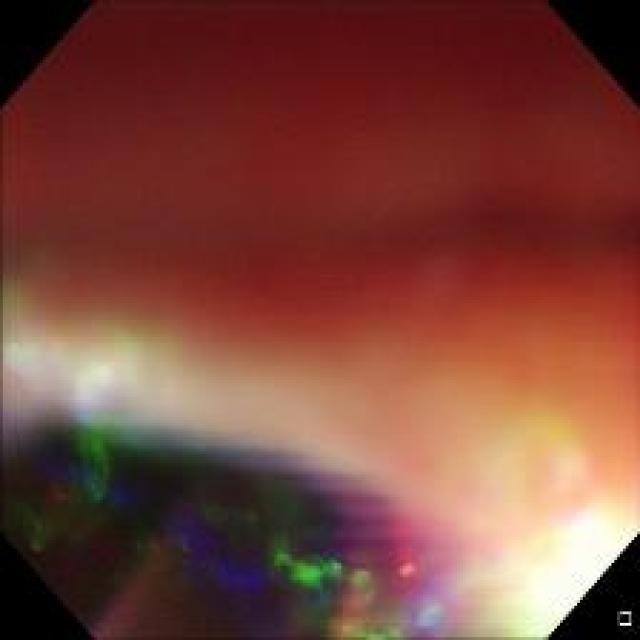blur: (0, 269, 636, 636)
color misalignment: (9, 341, 492, 629)
contrast: (19, 421, 405, 615)
saturation: (521, 506, 621, 602)
